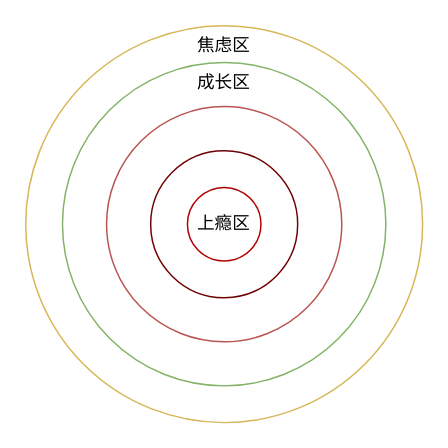
This 448x448 diagram has some shape labels left out. Each missing label, with the box of its shape:
舒适区: (105, 105, 342, 342)
诱惑区: (149, 149, 298, 298)
